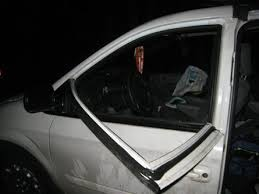Broken-glass: (53, 26, 223, 126)
